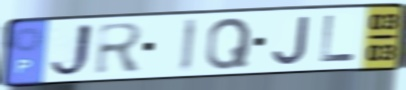I: (178, 16, 200, 74)
J: (47, 21, 97, 80), (271, 14, 312, 67)
L: (318, 14, 357, 64)
Q: (203, 15, 254, 72)
R: (93, 20, 146, 77)
